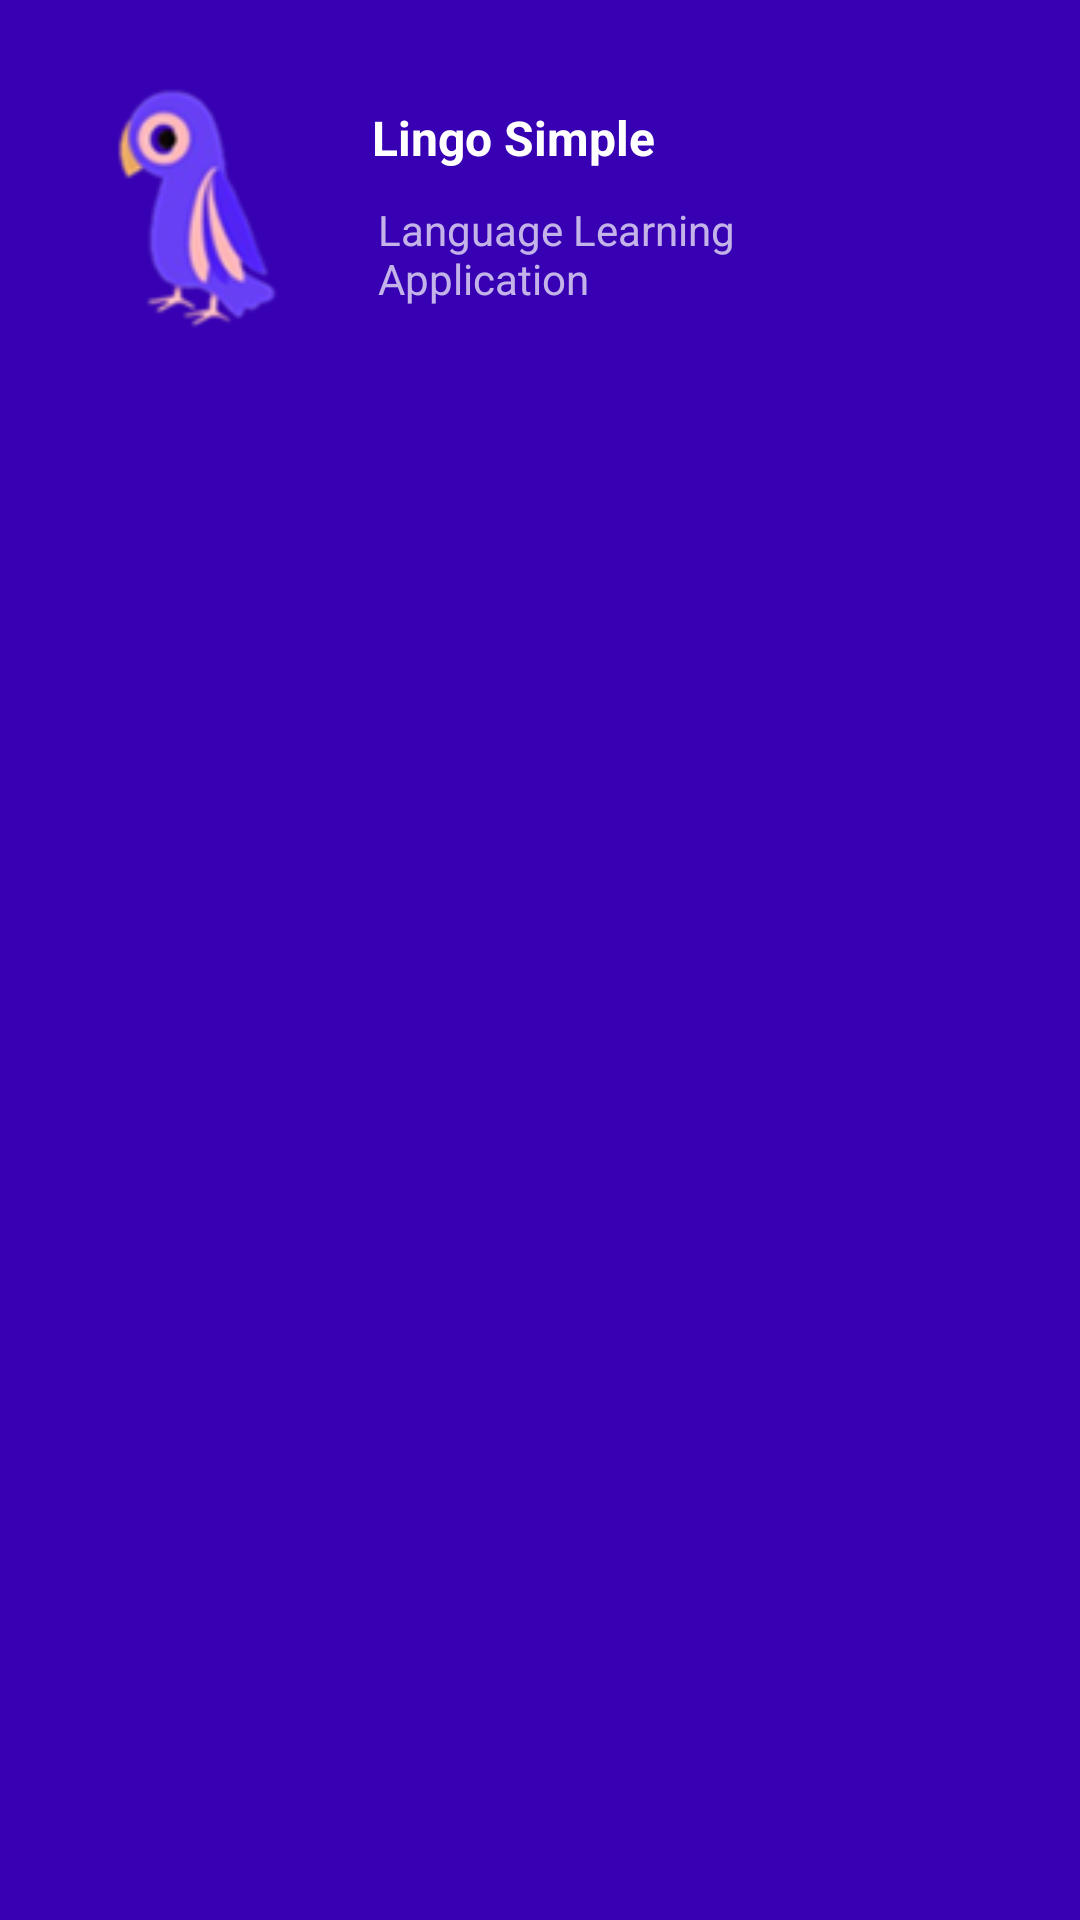

Icon bounding boxes for this 1080*1920 phone screenshot, format bbox(x1, y1, x2, y2):
bird sizelarge: bbox(118, 90, 275, 326)
